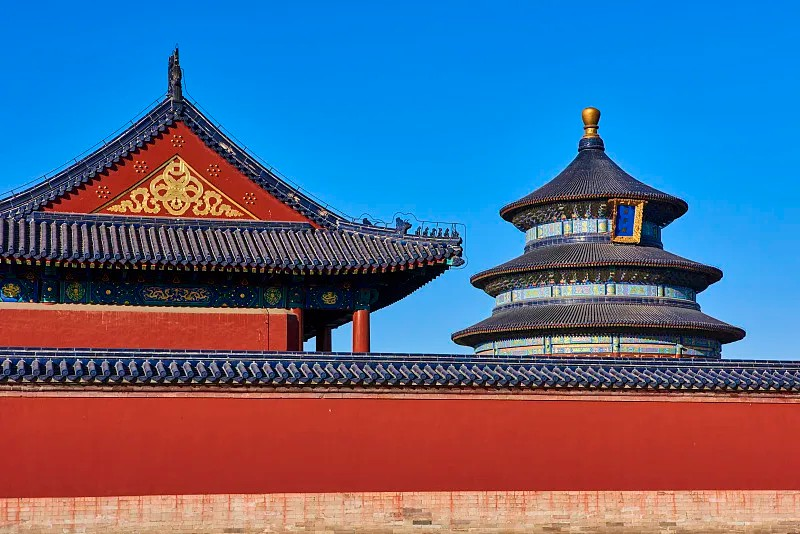Heaven: (450, 106, 746, 359)
